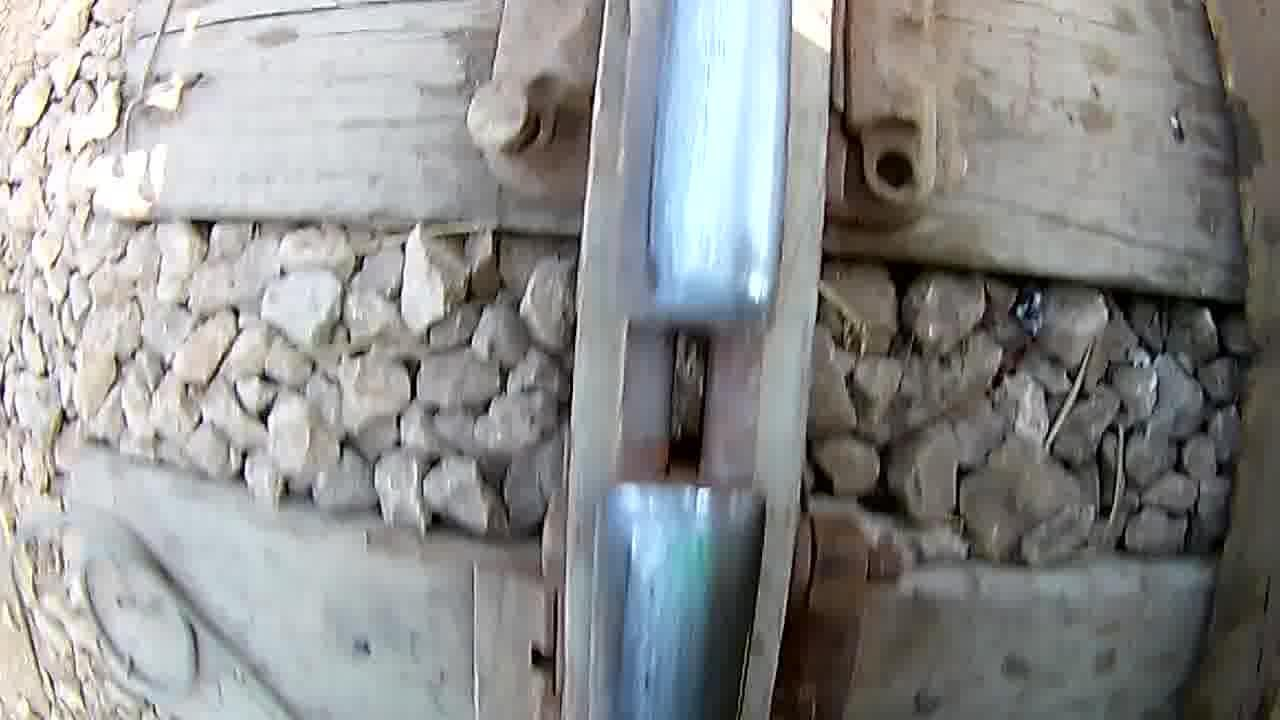crack: (599, 255, 805, 588)
